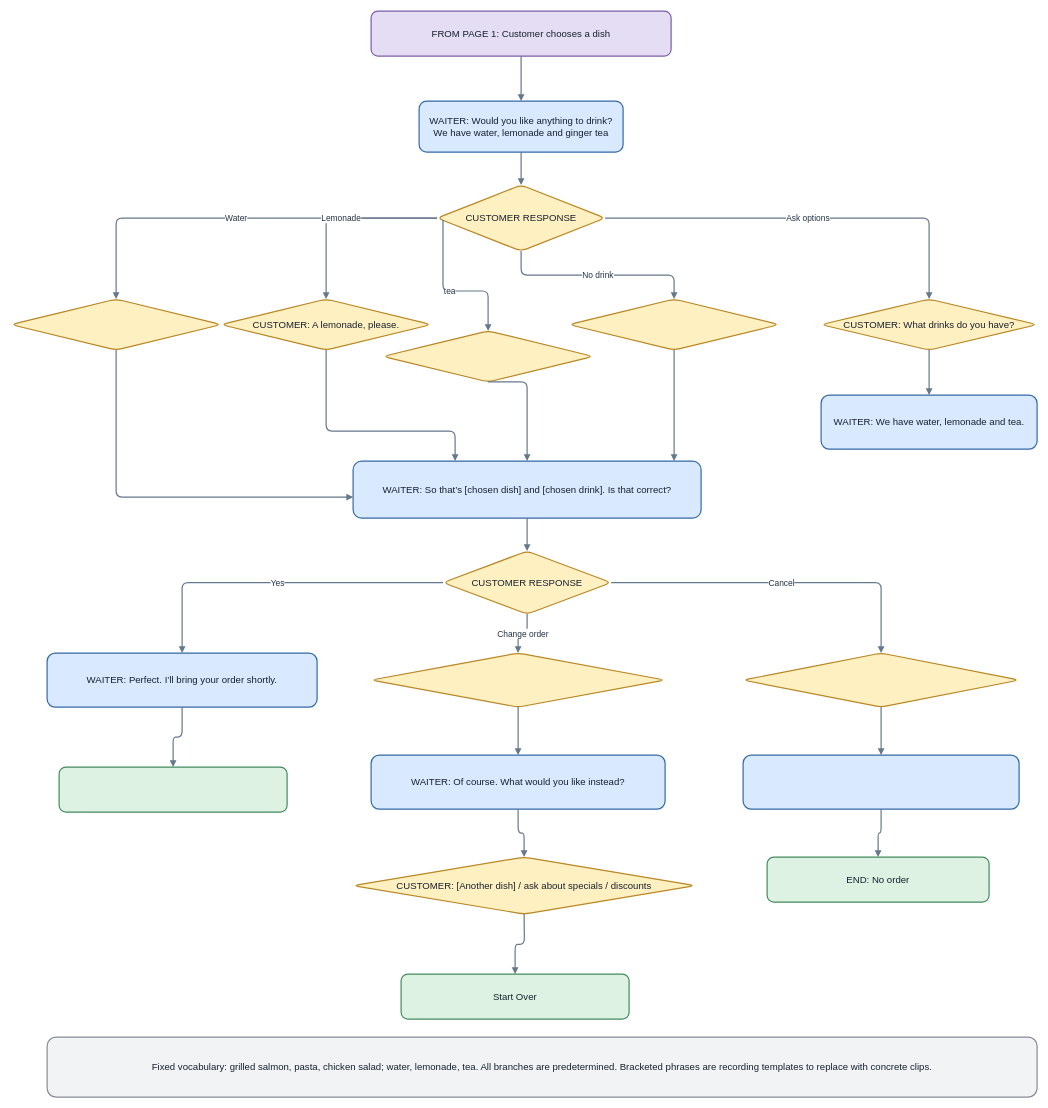
Image size: 1048x1108. Some labels were removed from this diagram. The box of each missing label's shape, as (x1, y1, x2, y2) in pixels:
CUSTOMER: Actually, I’d like to change my order.: (370, 652, 665, 707)
CUSTOMER: Just water, please.: (10, 298, 221, 350)
CUSTOMER: No drink, thank you.: (568, 298, 779, 350)
CUSTOMER: Sorry, I don’t want to order anymore.: (742, 652, 1019, 707)
CUSTOMER: tea, please.: (382, 330, 593, 382)
END: Order placed: (58, 766, 287, 812)
WAITER: No problem. Let me know if you need anything.: (742, 754, 1019, 809)
